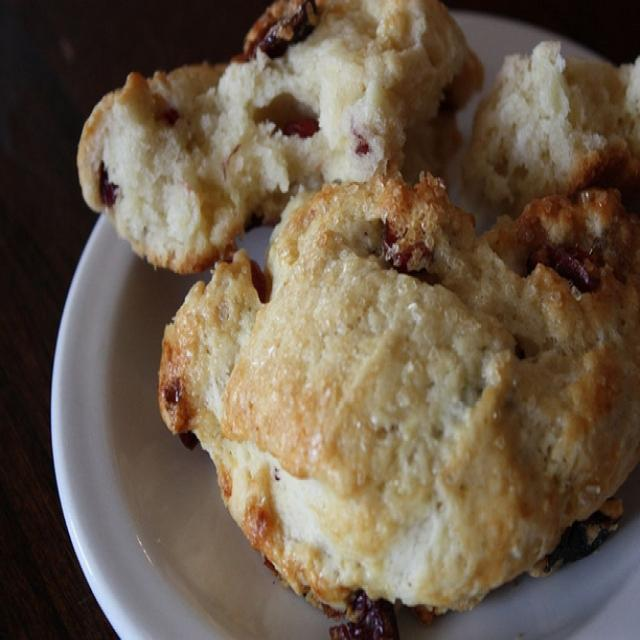面包点心: (38, 13, 623, 610)
